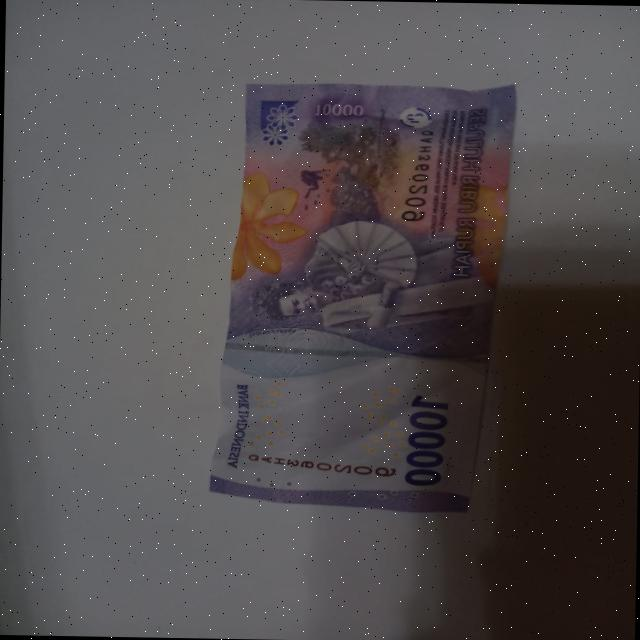10K: (194, 72, 527, 522)
